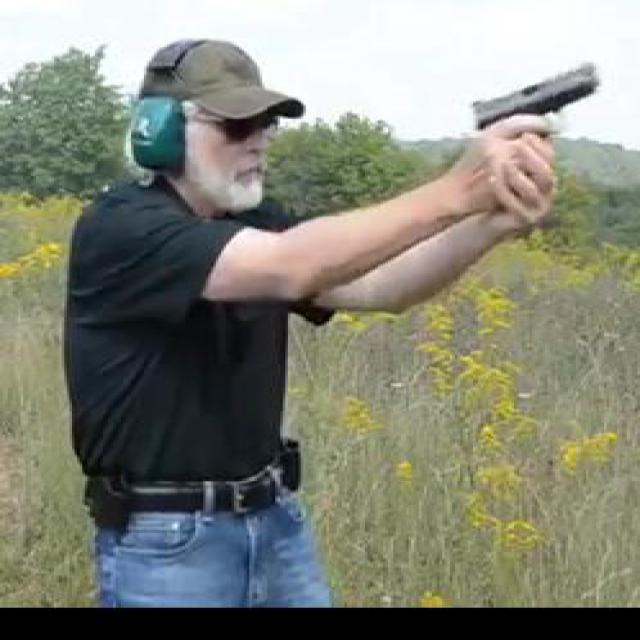gun: (462, 58, 602, 214)
